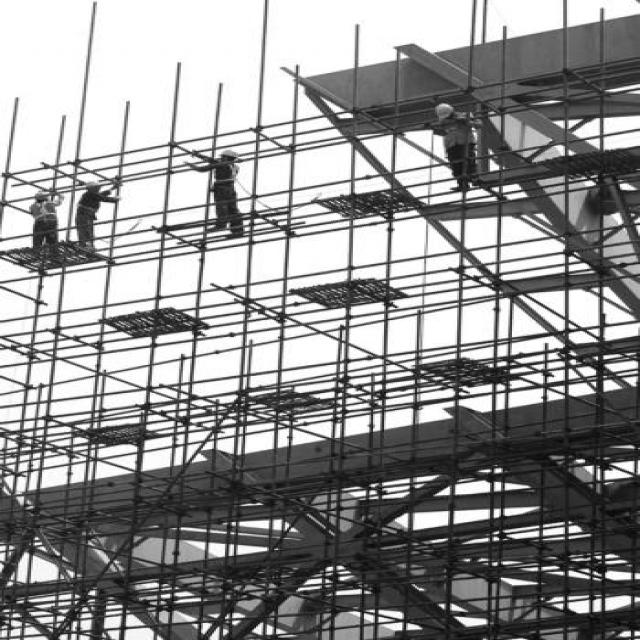Reflective-Jacket: (205, 162, 241, 196), (75, 190, 108, 219), (441, 123, 479, 148), (29, 200, 59, 222)
Safety-Helmet: (78, 174, 110, 190), (432, 101, 459, 118), (218, 148, 245, 160), (31, 188, 53, 200)
